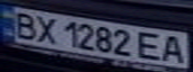1: (57, 18, 81, 47)
2: (112, 26, 136, 59), (75, 20, 96, 52)
8: (93, 24, 115, 55)
A: (157, 33, 190, 64)
B: (6, 9, 42, 39)
E: (136, 29, 166, 62)
X: (30, 14, 60, 44)
